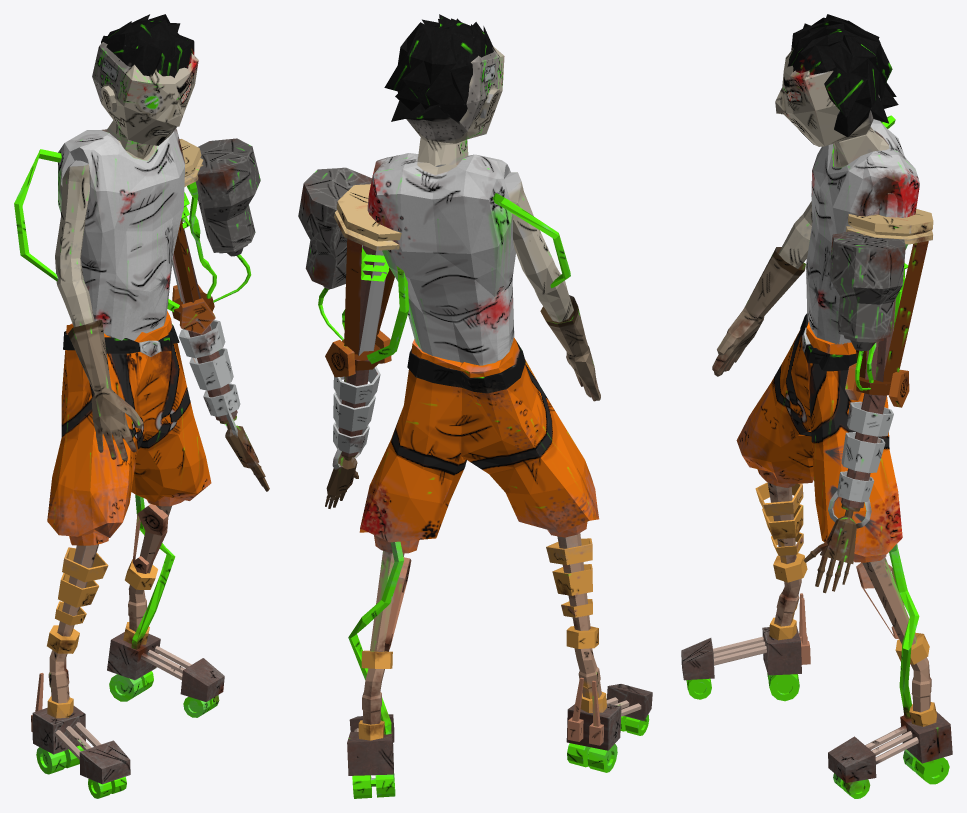
The model's file is CyborgFINALAnimation_000158.obj.
The picture shows the model from 3 angles, left to right: view 1: azimuth 30°, elevation 25°; view 2: azimuth 150°, elevation 25°; view 3: azimuth 270°, elevation 25°; orthographic projection. The views are drawn at different scales.
Parts seen in each view (by area): view 1: CyborgMesh_Cube.002; view 2: CyborgMesh_Cube.002; view 3: CyborgMesh_Cube.002.
Part boxes in pixels (left/top/right/bottom): CyborgMesh_Cube.002: left=14, top=14, right=269, bottom=798; CyborgMesh_Cube.002: left=298, top=14, right=652, bottom=798; CyborgMesh_Cube.002: left=681, top=14, right=952, bottom=798.
Size of the model in its own units: 3.61 by 9.67 by 3.21.
